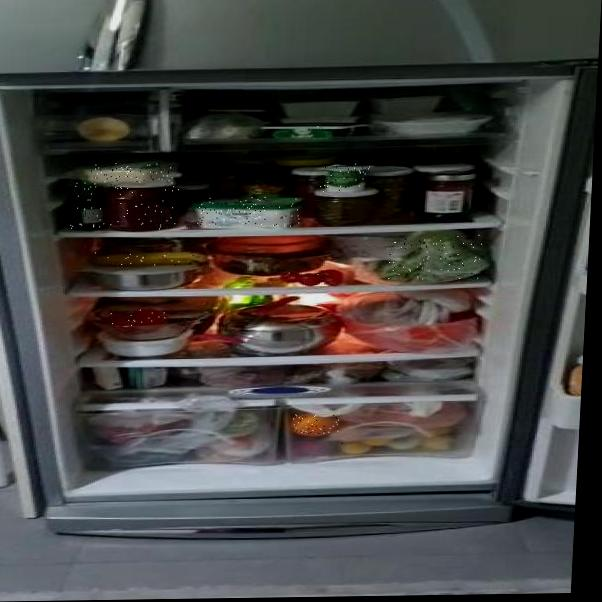banana: (94, 251, 202, 266)
cheese: (197, 196, 301, 228), (89, 162, 174, 183)
cream cheese: (266, 123, 366, 137)
lemon: (338, 441, 374, 455)
lettuce: (387, 234, 485, 280)
mineral water: (68, 180, 107, 230)
orange: (291, 413, 339, 434)
tomato: (109, 309, 167, 326), (282, 271, 344, 285)
tomato paste: (108, 181, 179, 230)
yoghurt: (320, 164, 370, 192)
